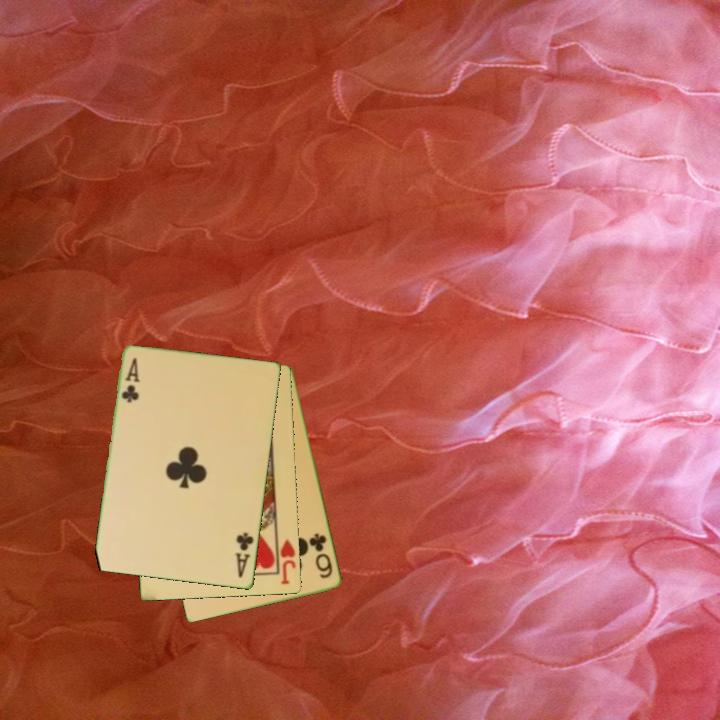6c: (307, 530, 336, 582)
Ac: (232, 529, 257, 581), (118, 355, 143, 406)
Jh: (274, 532, 299, 588)
